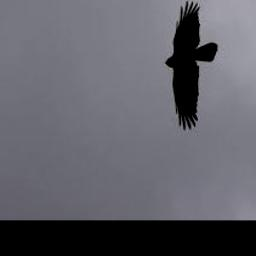Crow: (166, 1, 218, 131)
